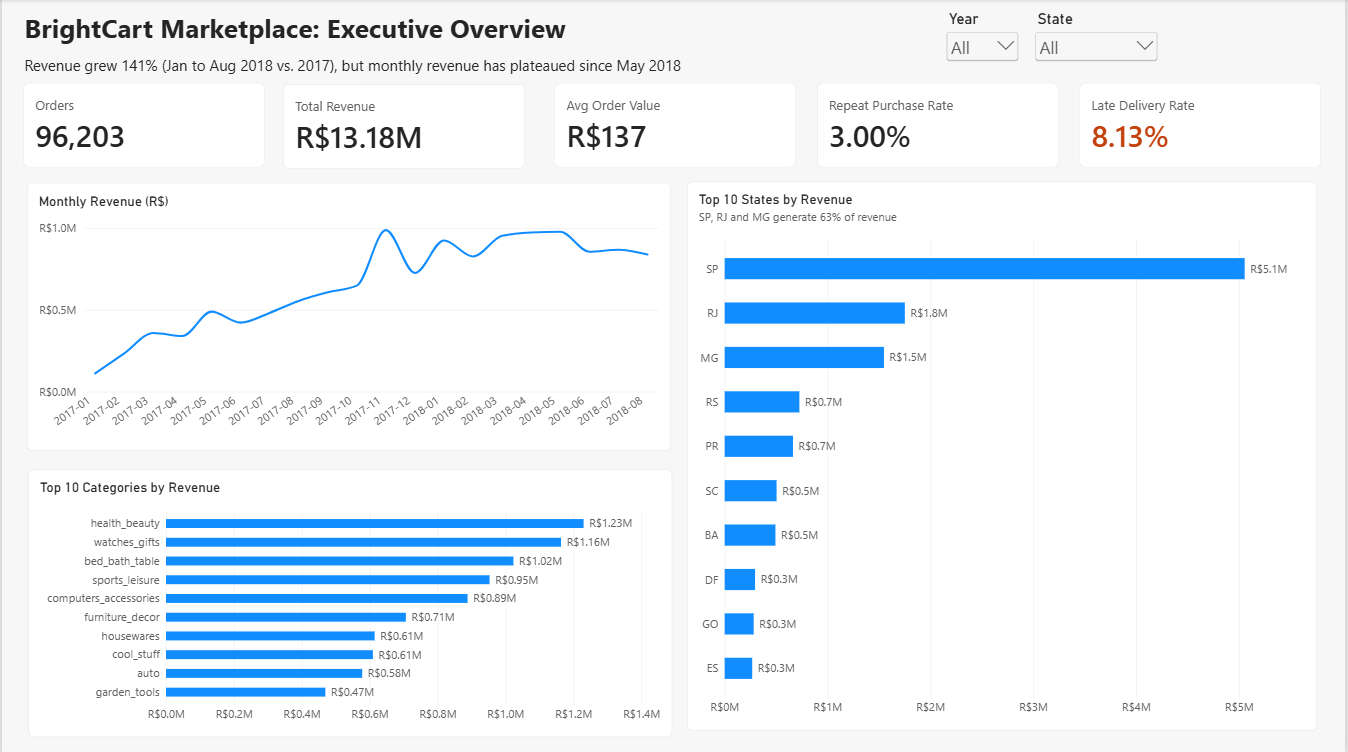

This screenshot's page, from the dashboard's own definition file:
{"tool":"powerbi","page":{"name":"Executive Overview","canvas":[1920,1080],"ordinal":0},"visuals":[{"type":"clusteredBarChart","title":"Top 10 States by Revenue","fields":{"Category":["orders_fact.state"],"Y":["orders_fact.Total Revenue"]},"box":[977.9,261.8,900.3,784.6],"z":0,"group":"g1"},{"type":"lineChart","title":"Monthly Revenue (R$)","fields":{"Category":["Calendar.Month"],"Y":["orders_fact.Total Revenue"]},"box":[35.2,262.7,920.2,383.3],"z":0},{"type":"cardVisual","title":"Total Orders","fields":{"Data":["orders_fact.Orders Display"]},"box":[30.6,119.9,345,121],"z":1000,"group":"g1"},{"type":"clusteredBarChart","title":"Top 10 Categories by Revenue","fields":{"Category":["items_category.category"],"Y":["items_category.Category Revenue"]},"box":[37,671.3,920.2,383.3],"z":1000},{"type":"slicer","fields":{"Values":["Calendar.Year"]},"box":[1344,16,112,112],"z":2000},{"type":"slicer","fields":{"Values":["orders_fact.state"]},"box":[1472,16,184,360],"z":3000},{"type":"cardVisual","fields":{"Data":["orders_fact.Avg Order Value"]},"box":[790.6,119.9,345,121],"z":3000,"group":"g2"},{"type":"textbox","box":[32,80,1312,144],"z":4000},{"type":"textbox","box":[32,16,864,64],"z":5000},{"type":"cardVisual","fields":{"Data":["orders_fact.Total Revenue"]},"box":[402.6,121.2,345,121],"z":5000,"group":"g2"},{"type":"group","id":"g1","title":"Group 1","box":[30.6,119.9,1854.1,926.5],"z":6000},{"type":"group","id":"g2","title":"Group 2","box":[402.6,119.9,1482.2,122.3],"z":6001,"group":"g1"},{"type":"cardVisual","fields":{"Data":["orders_fact.Repeat Purchase Rate"]},"box":[1165.2,119.9,345,121],"z":7000,"group":"g2"},{"type":"cardVisual","fields":{"Data":["orders_fact.Late Delivery Rate"]},"box":[1539.8,119.9,345,121],"z":9000,"group":"g2"}]}

Visuals, with their boxes in screenshot pixels (x1, y1, x2, y2), scaled from the page's 1920x1080 canvas onto the 1348x752 screenshot:
"Top 10 States by Revenue" clusteredBarChart: [687, 182, 1319, 729]
"Monthly Revenue (R$)" lineChart: [25, 183, 671, 450]
"Total Orders" cardVisual: [21, 83, 264, 168]
"Top 10 Categories by Revenue" clusteredBarChart: [26, 467, 672, 734]
slicer - Calendar.Year: [944, 11, 1022, 89]
slicer - orders_fact.state: [1033, 11, 1163, 262]
cardVisual - orders_fact.Avg Order Value: [555, 83, 797, 168]
textbox: [22, 56, 944, 156]
textbox: [22, 11, 629, 56]
cardVisual - orders_fact.Total Revenue: [283, 84, 525, 169]
"Group 1" group: [21, 83, 1323, 729]
"Group 2" group: [283, 83, 1323, 169]
cardVisual - orders_fact.Repeat Purchase Rate: [818, 83, 1060, 168]
cardVisual - orders_fact.Late Delivery Rate: [1081, 83, 1323, 168]
